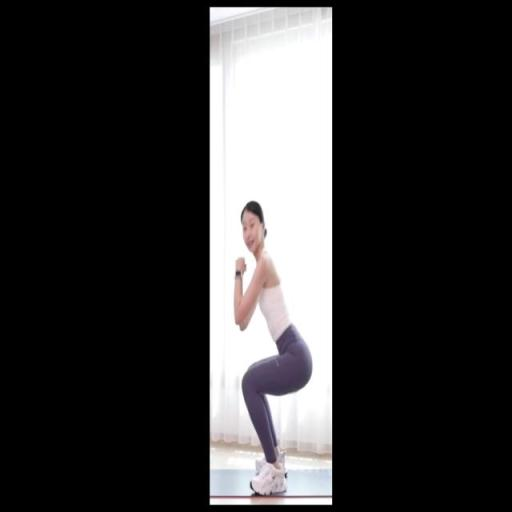Normal_BrenchPress: (232, 200, 313, 497)
